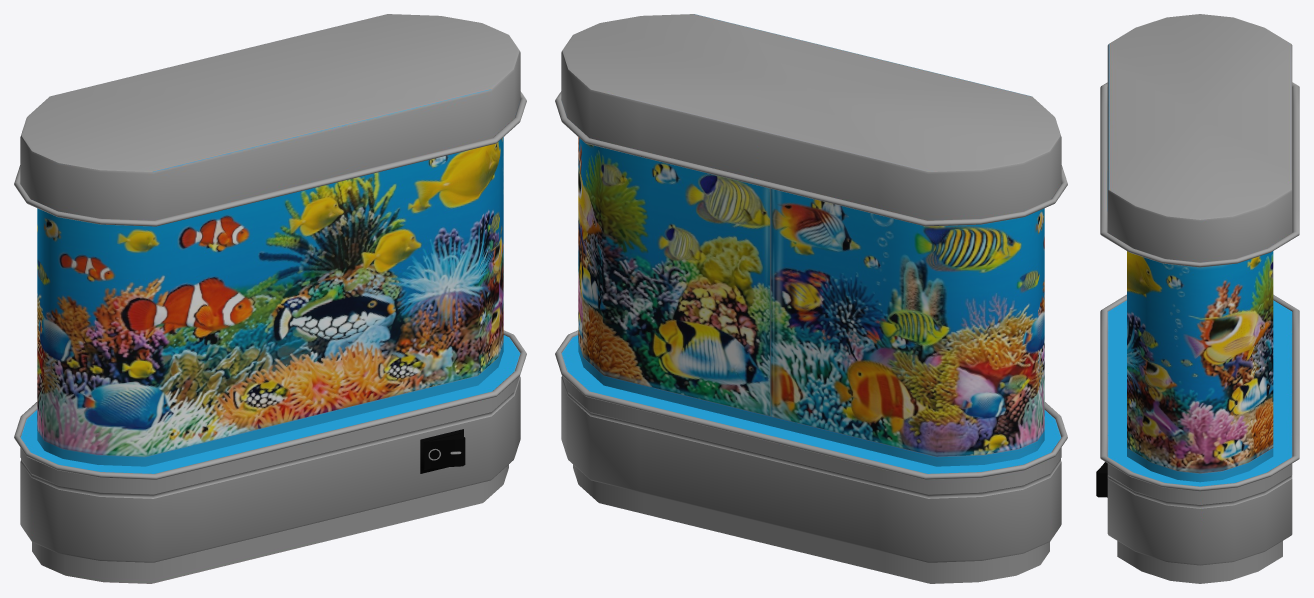
File: aquarium lamp.fbx
The picture shows the model from 3 angles, left to right: view 1: azimuth 30°, elevation 25°; view 2: azimuth 150°, elevation 25°; view 3: azimuth 270°, elevation 25°; orthographic projection. The views are drawn at different scales.
Visible parts, largest first — view 1: aquarium lamp; view 2: aquarium lamp; view 3: aquarium lamp.
Boxes of the visible parts, x1=… form: aquarium lamp: x1=14, y1=14, x2=526, y2=583; aquarium lamp: x1=555, y1=14, x2=1067, y2=583; aquarium lamp: x1=1096, y1=14, x2=1299, y2=583.
Bounding box in the file's own units: 31.14 × 25.4 × 12.71.
